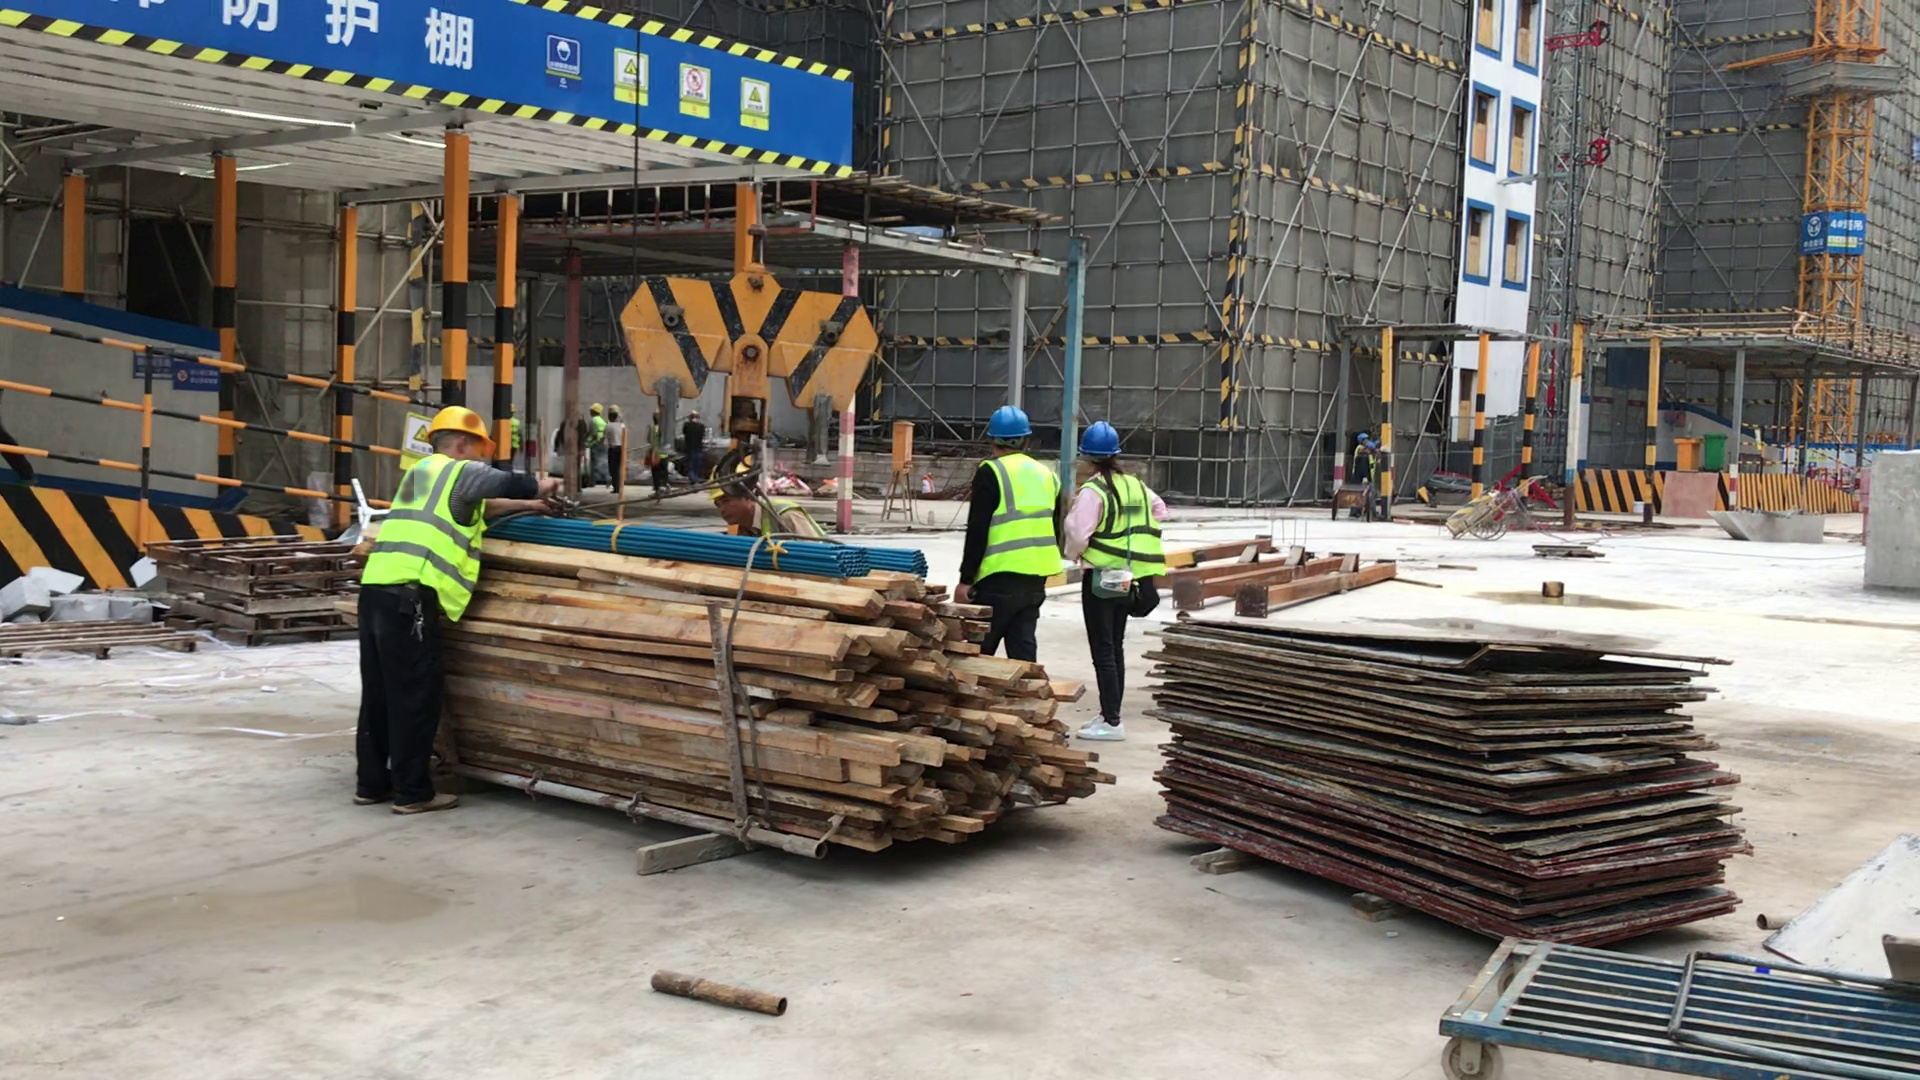board: (1137, 606, 1757, 942)
handcart: (1448, 469, 1546, 549)
helmet: (427, 405, 501, 449), (987, 402, 1038, 441), (1075, 418, 1123, 458), (1359, 431, 1381, 449), (609, 404, 624, 417), (590, 401, 603, 414)
hook: (607, 245, 892, 455)
hopper: (1703, 503, 1832, 545)
person: (355, 408, 564, 814), (1055, 419, 1176, 745), (952, 401, 1070, 687), (602, 400, 629, 495), (1352, 428, 1378, 500), (502, 398, 522, 473), (585, 402, 606, 468), (684, 411, 707, 473)
vest: (965, 449, 1168, 587), (359, 449, 488, 620)
wood: (407, 494, 1127, 850)
